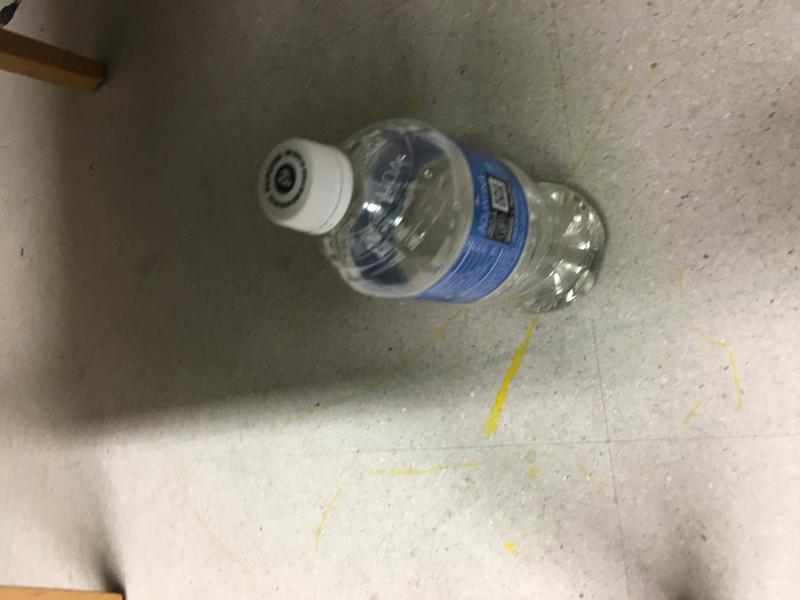bottle: (256, 116, 610, 317)
